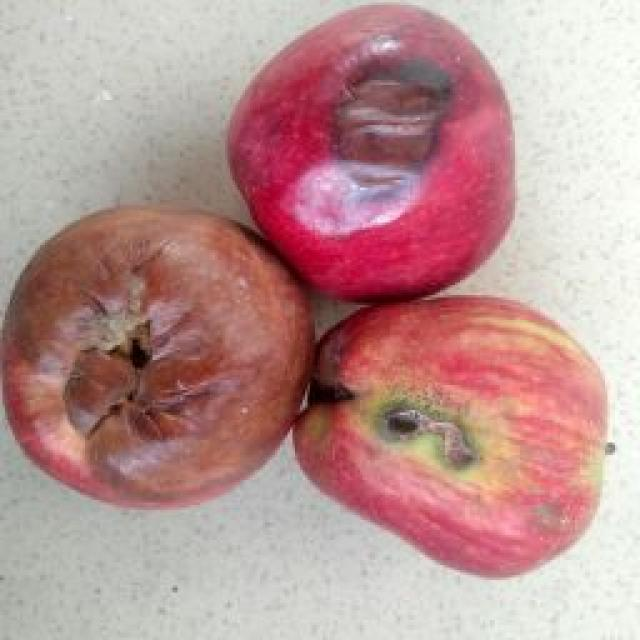Bad_Apple: (2, 208, 310, 506), (294, 296, 606, 576), (229, 6, 514, 299)
